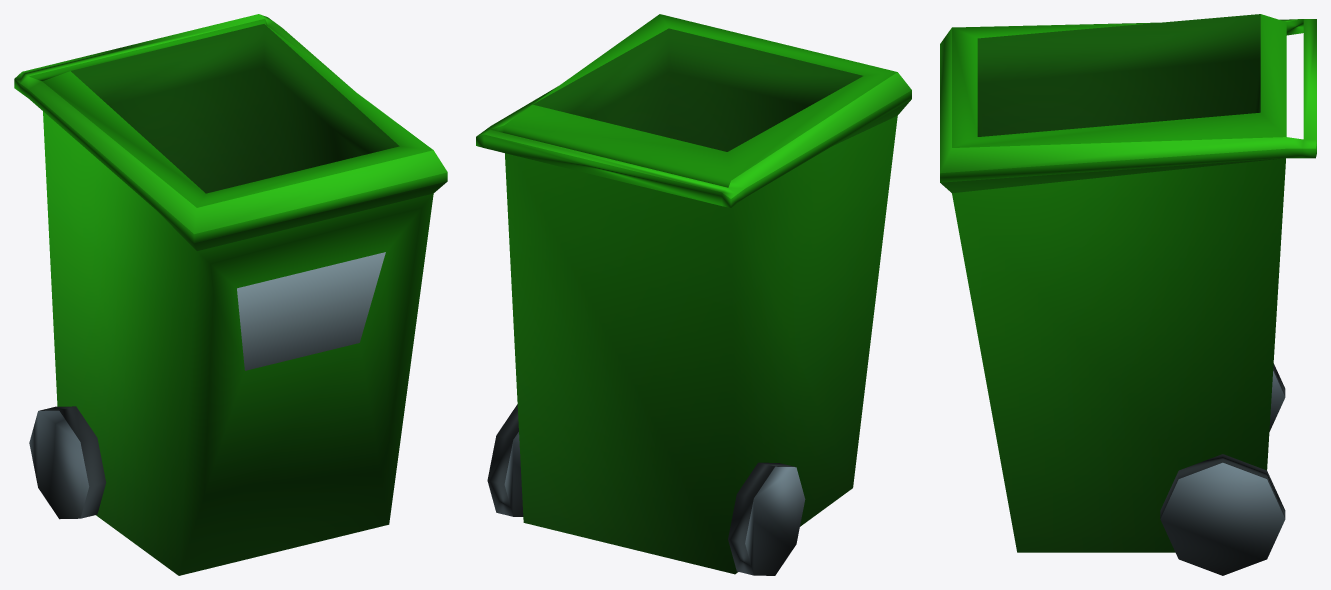
Rendered from Rubbish Bin.glb.
3 views of the same model, side by side, from view 1: azimuth 30°, elevation 25°; view 2: azimuth 150°, elevation 25°; view 3: azimuth 270°, elevation 25° (orthographic). The views are drawn at different scales.
Parts seen in each view (by area): view 1: Rubbish Bin; view 2: Rubbish Bin; view 3: Rubbish Bin.
Part boxes in pixels (x1,y1,x2,y2): Rubbish Bin: (14,14,447,575); Rubbish Bin: (476,14,911,575); Rubbish Bin: (940,14,1316,575).
Size of the model in its own units: 1.26 by 2.01 by 1.54.
1 material, 1 textured.
